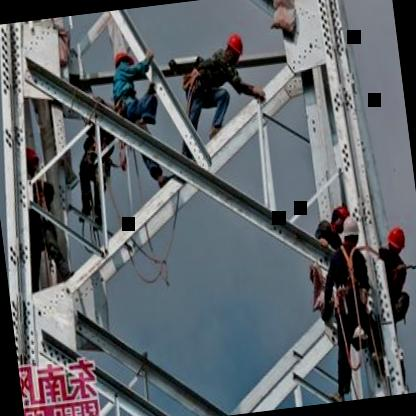helmet: (15, 139, 43, 180), (382, 225, 410, 258), (224, 29, 246, 68), (340, 217, 363, 251), (112, 47, 136, 78), (328, 203, 350, 233)
